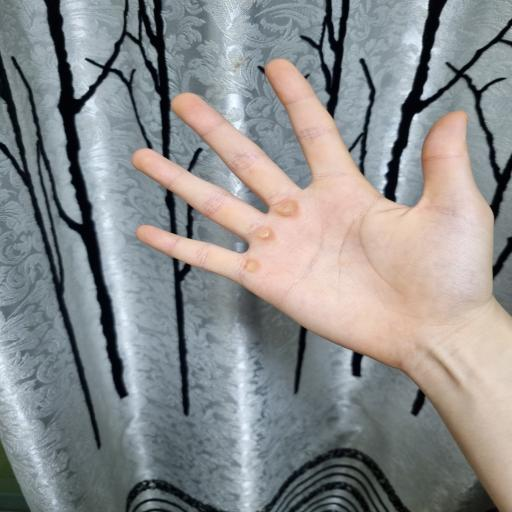Paper: (133, 60, 493, 382)
